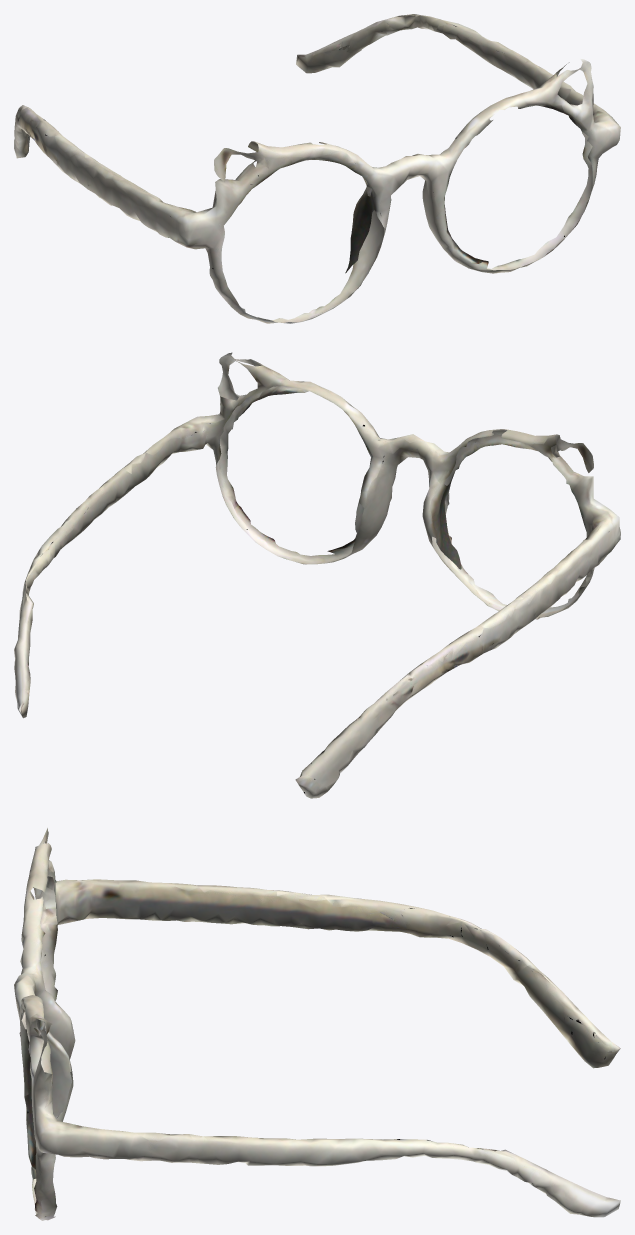
File: scan_align.obj
3 renders of one model, top to bottom at view 1: azimuth 30°, elevation 25°; view 2: azimuth 150°, elevation 25°; view 3: azimuth 270°, elevation 25°, orthographic. The views are drawn at different scales.
Size of the model in its own units: 0.132 by 0.0553 by 0.1345.
Materials: 1 (1 with a texture image).
